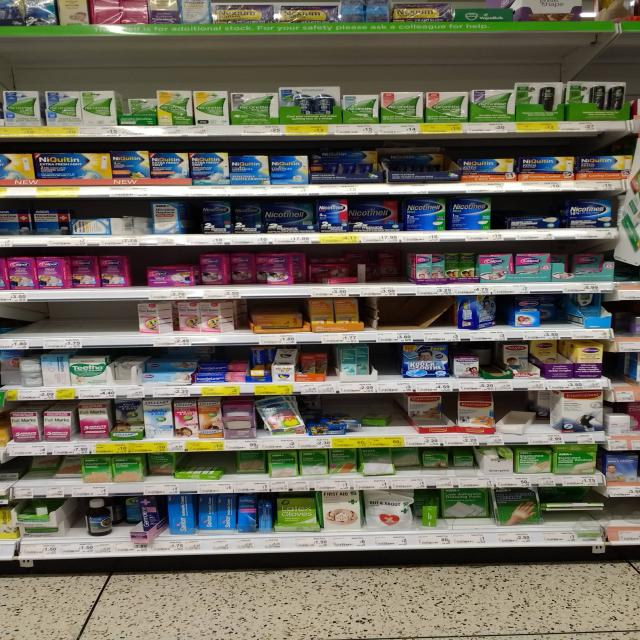empty: (7, 301, 144, 341), (376, 299, 464, 330), (373, 348, 405, 386)
